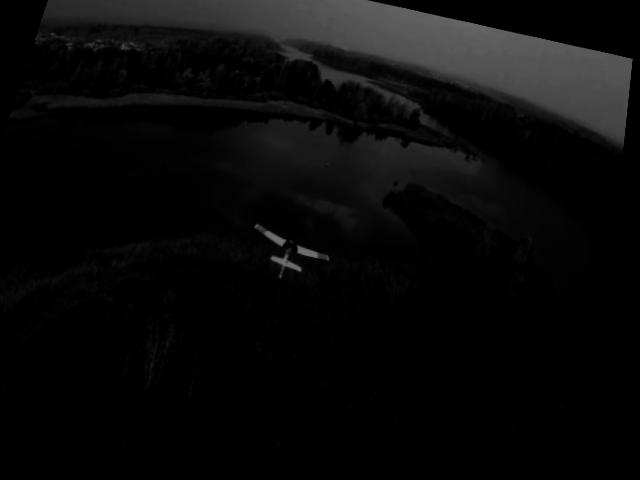hedef: (235, 212, 353, 296)
